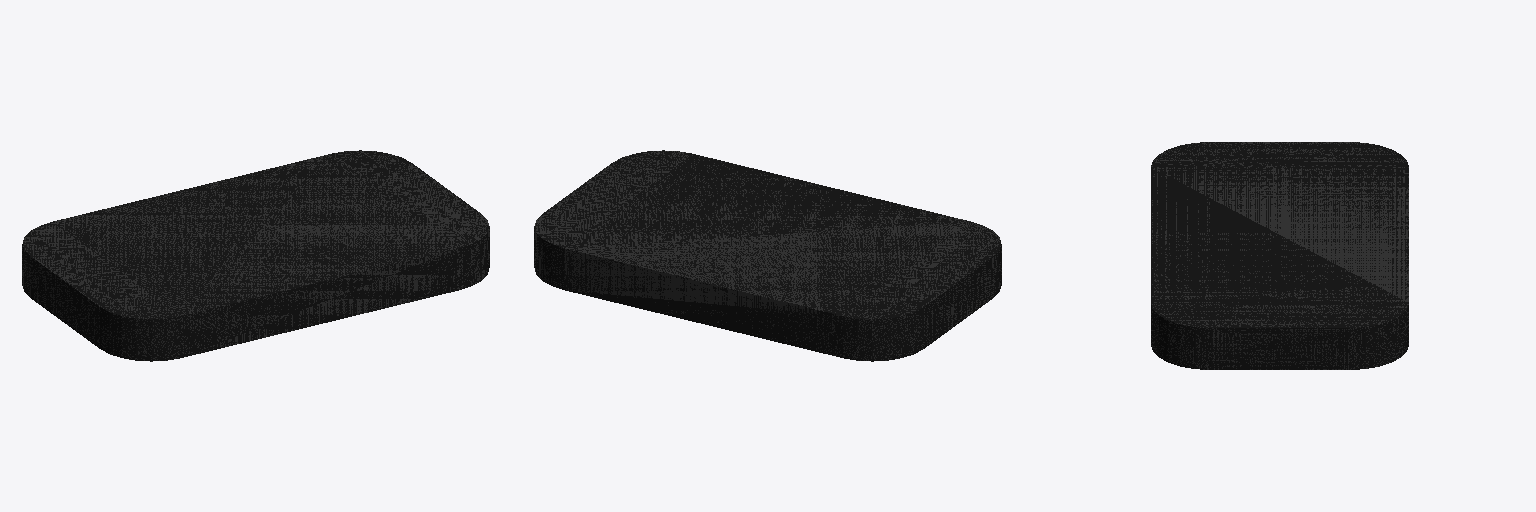
File: original-70.obj
3 views of the same model, side by side, from view 1: azimuth 30°, elevation 25°; view 2: azimuth 150°, elevation 25°; view 3: azimuth 270°, elevation 25° (orthographic).
Visible parts, largest first — view 1: mesh69/mesh69-geometry#mesh69-geometry; view 2: mesh69/mesh69-geometry#mesh69-geometry; view 3: mesh69/mesh69-geometry#mesh69-geometry.
Boxes of the visible parts, box(x1,y1,x2,y2) form: mesh69/mesh69-geometry#mesh69-geometry: box(22, 150, 489, 361); mesh69/mesh69-geometry#mesh69-geometry: box(534, 150, 1001, 361); mesh69/mesh69-geometry#mesh69-geometry: box(1151, 142, 1408, 369).
Size of the model in its own units: 0.0609 by 0.0064 by 0.0357.